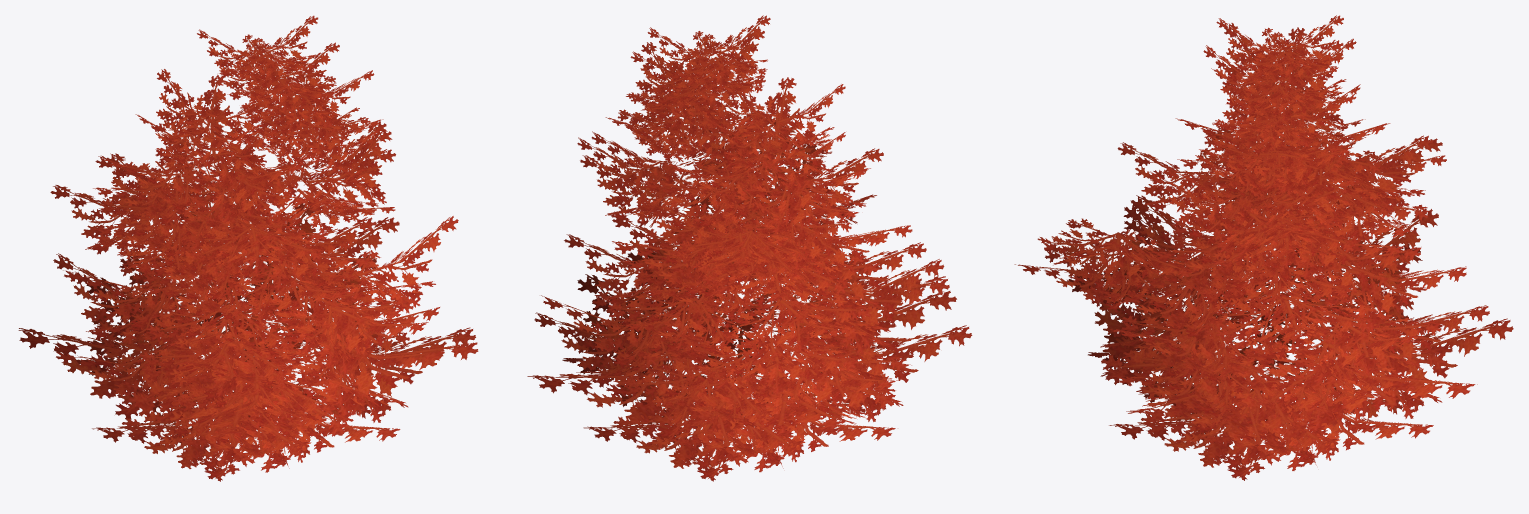
The picture shows the model from 3 angles, left to right: view 1: azimuth 30°, elevation 25°; view 2: azimuth 150°, elevation 25°; view 3: azimuth 270°, elevation 25°; orthographic projection. The views are drawn at different scales.
Visible parts, largest first — view 1: body0_model0_lod0_mesh0; view 2: body0_model0_lod0_mesh0; view 3: body0_model0_lod0_mesh0.
Part boxes in pixels (bbox=[...]): body0_model0_lod0_mesh0: bbox=[18, 15, 478, 481]; body0_model0_lod0_mesh0: bbox=[527, 15, 972, 481]; body0_model0_lod0_mesh0: bbox=[1014, 15, 1513, 480].
Bounding box in the file's own units: 558 × 559 × 591.
Materials: 1 (1 with a texture image).
